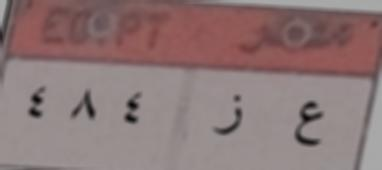4: (118, 82, 154, 135), (18, 82, 54, 126)
8: (66, 87, 106, 125)
ain: (287, 93, 335, 158)
zay: (210, 86, 253, 138)
